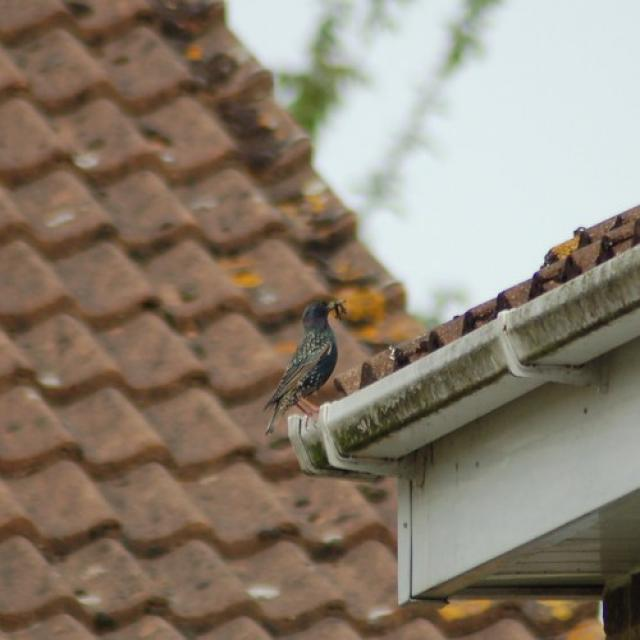bird: (262, 296, 349, 438)
